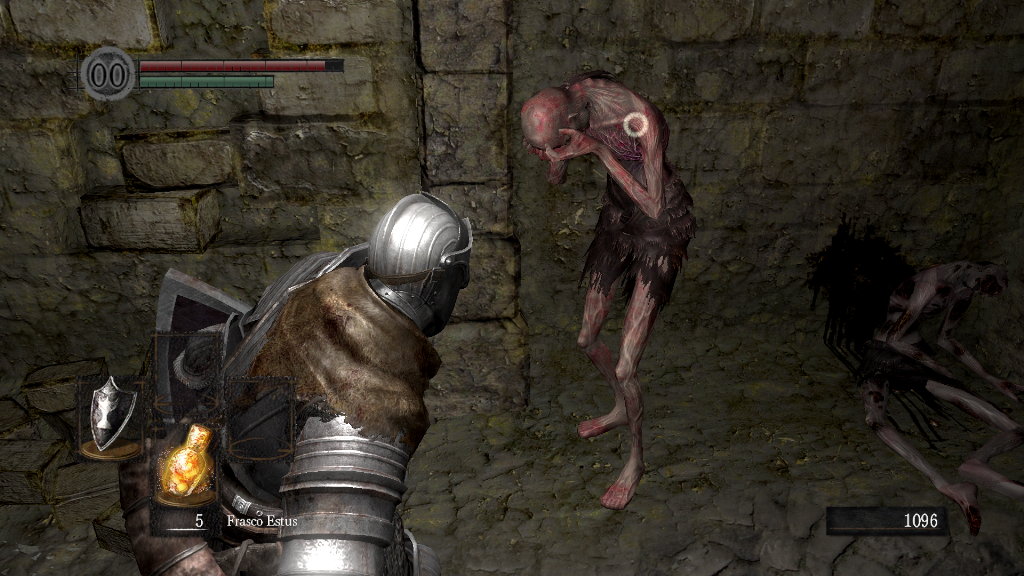health: (138, 58, 343, 71)
hollow: (519, 78, 701, 513)
humanity: (80, 45, 136, 102)
player: (120, 192, 476, 576)
souls: (825, 506, 945, 536)
stamina: (138, 74, 274, 88)
